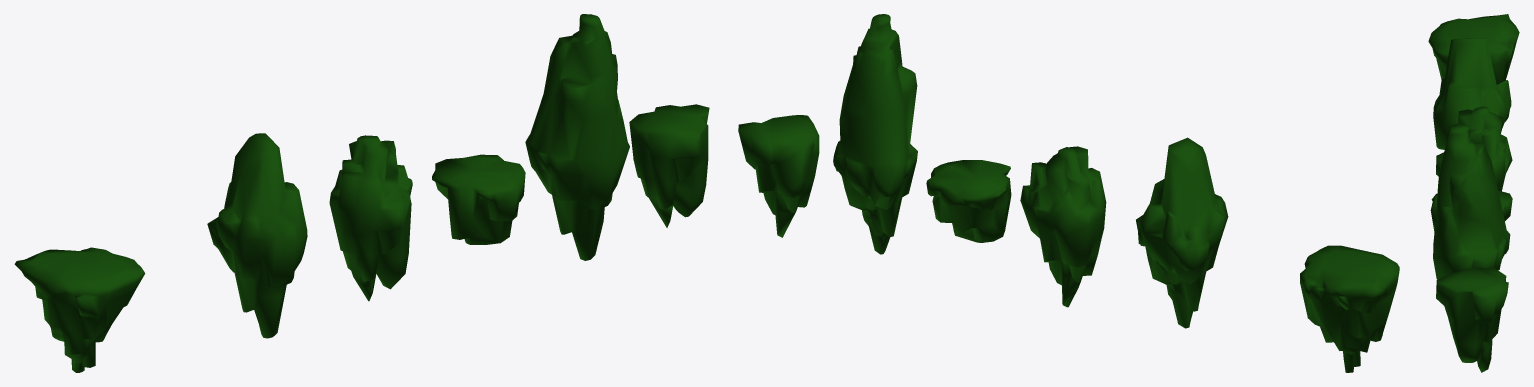
3 renders of one model, left to right at view 1: azimuth 30°, elevation 25°; view 2: azimuth 150°, elevation 25°; view 3: azimuth 270°, elevation 25°, orthographic. The views are drawn at different scales.
Parts seen in each view (by area): view 1: 对象004, 对象001, 对象002, Plane001, 对象005, 对象003; view 2: 对象004, 对象001, 对象002, Plane001, 对象005, 对象003; view 3: 对象004, 对象005, 对象001, Plane001, 对象002, 对象003.
Boxes of the visible parts, box(x1,y1,x2,y2) form: 对象004: box(525, 14, 629, 260); 对象001: box(207, 133, 307, 338); 对象002: box(329, 135, 412, 301); Plane001: box(14, 247, 145, 372); 对象005: box(629, 104, 709, 227); 对象003: box(432, 154, 525, 244); 对象004: box(833, 14, 917, 254); 对象001: box(1136, 137, 1228, 328); 对象002: box(1020, 146, 1106, 307); Plane001: box(1300, 245, 1399, 372); 对象005: box(738, 115, 819, 237); 对象003: box(926, 160, 1011, 242); 对象004: box(1433, 124, 1510, 279); 对象005: box(1436, 267, 1508, 372); 对象001: box(1433, 38, 1511, 149); Plane001: box(1428, 14, 1519, 84); 对象002: box(1436, 106, 1512, 191); 对象003: box(1430, 190, 1512, 231).
Size of the model in its own units: 1370 by 469 by 186.
